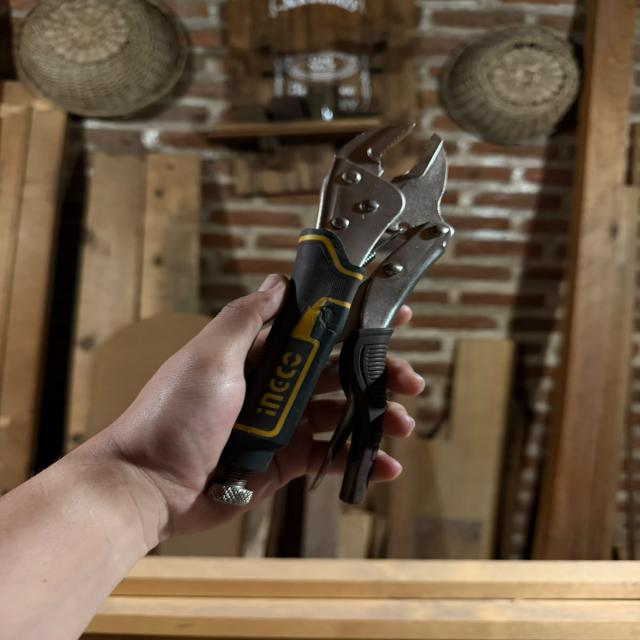PinzasPresion: (144, 92, 507, 558)
